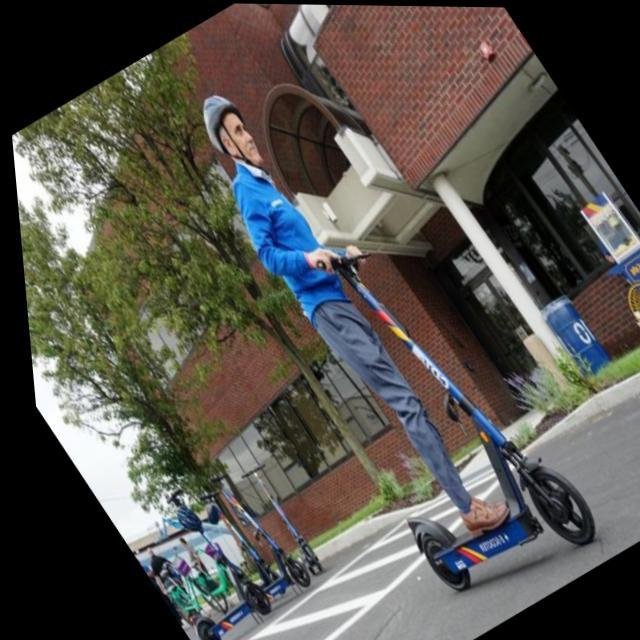Helmet: (199, 86, 274, 177)
